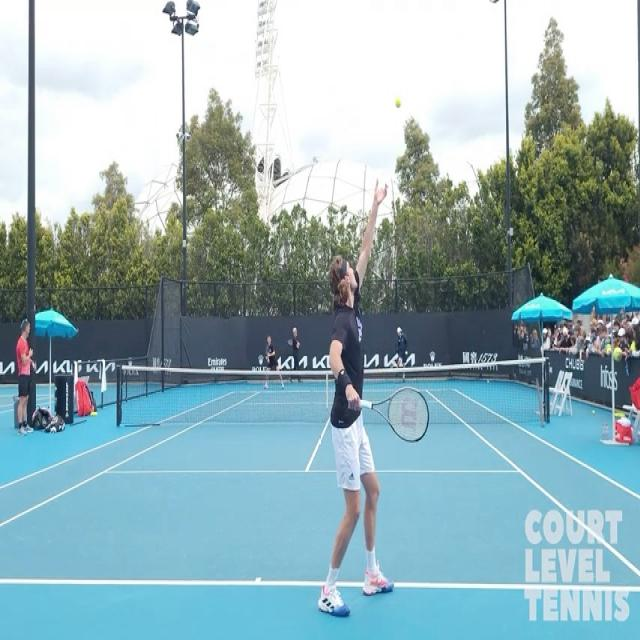serve_toss: (315, 172, 437, 626)
